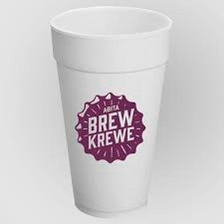paper_cup: (44, 0, 178, 224)
